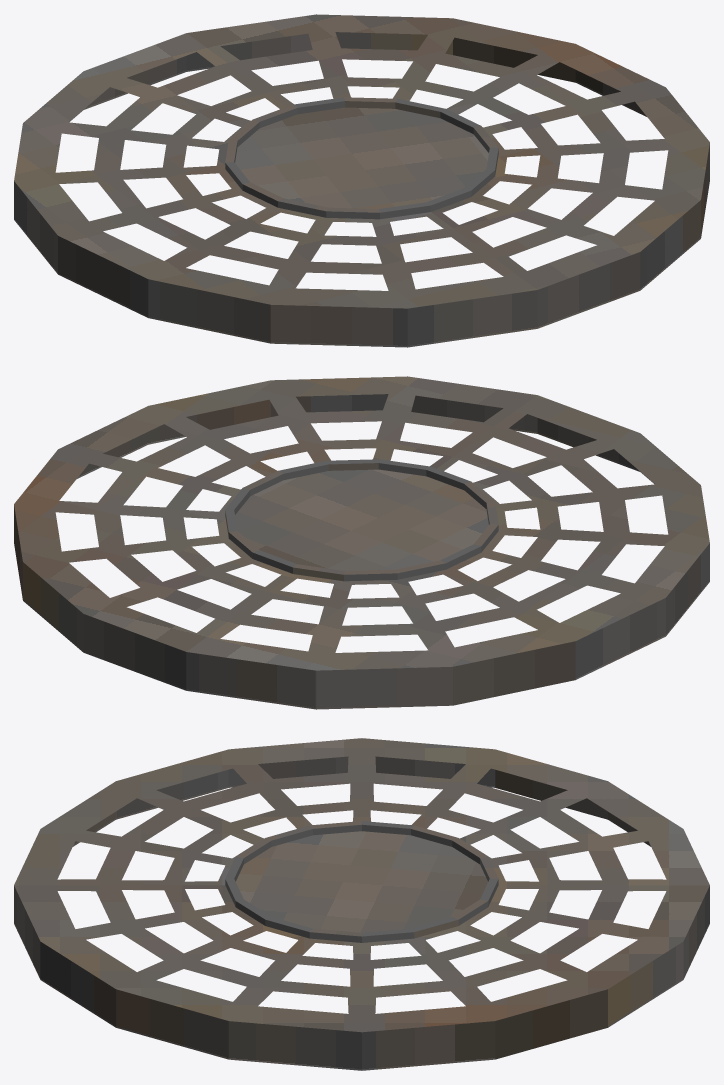
Rendered from BueiroZefir.fbx.
3 renders of one model, top to bottom at view 1: azimuth 30°, elevation 25°; view 2: azimuth 150°, elevation 25°; view 3: azimuth 270°, elevation 25°, orthographic.
Visible parts, largest first — view 1: Bueiro; view 2: Bueiro; view 3: Bueiro.
Boxes of the visible parts, bbox=[...] form: Bueiro: bbox=[14, 14, 709, 347]; Bueiro: bbox=[14, 376, 709, 709]; Bueiro: bbox=[14, 738, 709, 1070].
Size of the model in its own units: 107 by 7.64 by 107.
1 material, 1 textured.
